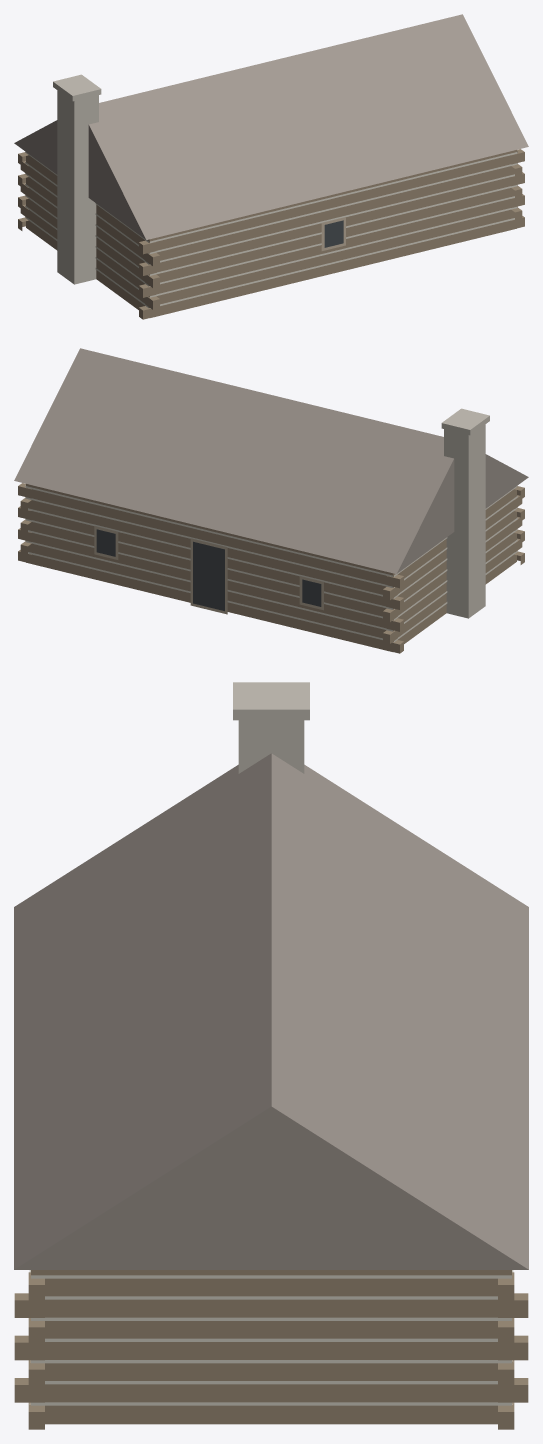
File: council_house__log_1834.glb
3 views of the same model, one above another, from view 1: azimuth 30°, elevation 25°; view 2: azimuth 150°, elevation 25°; view 3: azimuth 270°, elevation 25° (orthographic). The views are drawn at different scales.
Visible parts, largest first — view 1: council_house__log_1834; view 2: council_house__log_1834; view 3: council_house__log_1834.
Part boxes in pixels (bbox=[...]): council_house__log_1834: bbox=[14, 14, 528, 319]; council_house__log_1834: bbox=[14, 348, 528, 653]; council_house__log_1834: bbox=[14, 682, 528, 1429].
Size of the model in its own units: 13.07 by 6.01 by 7.5.
